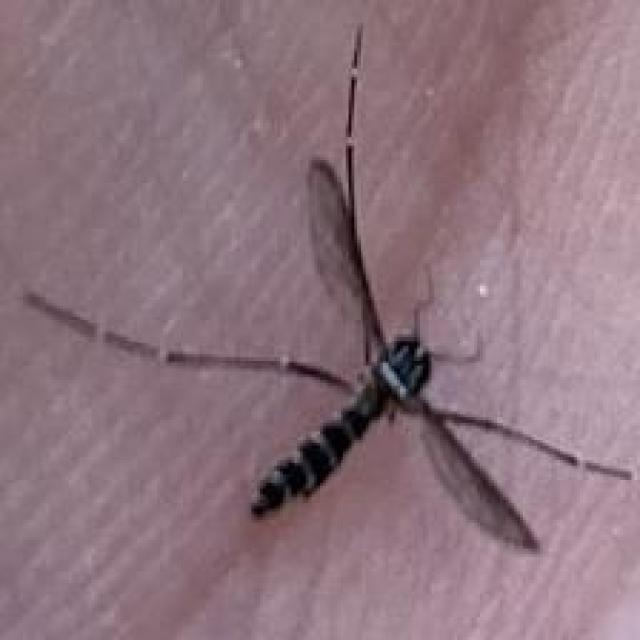Aedes albopictus: (21, 20, 636, 554)
